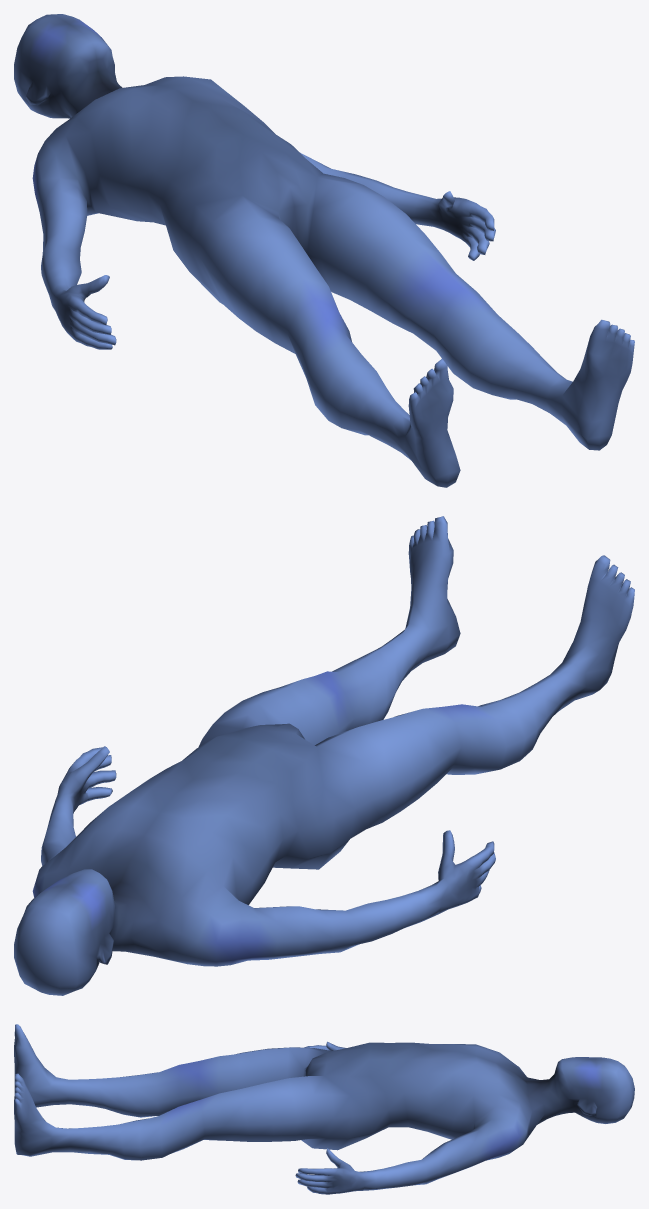
File: MaleBasemesh.fbx
3 views of the same model, one above another, from view 1: azimuth 30°, elevation 25°; view 2: azimuth 150°, elevation 25°; view 3: azimuth 270°, elevation 25° (orthographic). The views are drawn at different scales.
Visible parts, largest first — view 1: male_basemesh; view 2: male_basemesh; view 3: male_basemesh.
Boxes of the visible parts, bbox=[...] form: male_basemesh: bbox=[14, 14, 634, 487]; male_basemesh: bbox=[14, 516, 634, 995]; male_basemesh: bbox=[14, 1024, 634, 1194].
Size of the model in its own units: 0.8729 by 0.3006 by 1.81.
